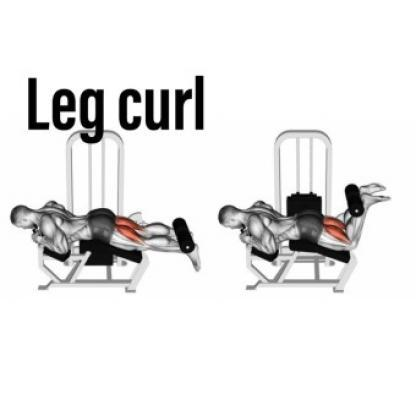reg curl machine: (7, 124, 207, 298), (216, 126, 393, 300)
